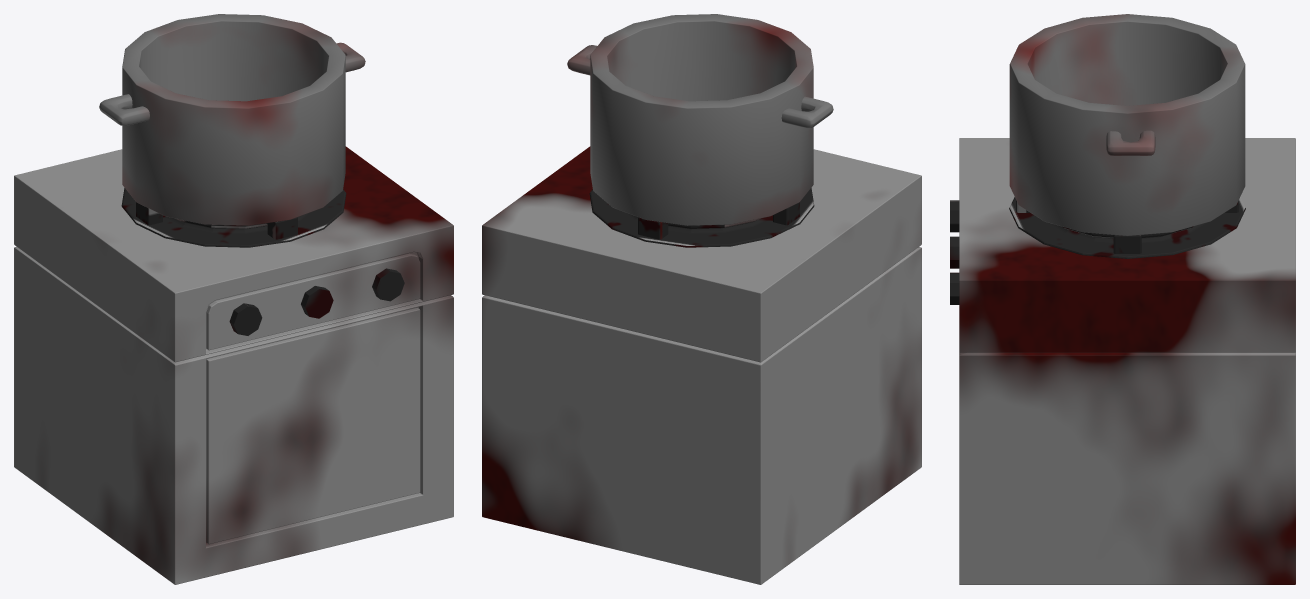
File: stove.fbx
3 renders of one model, left to right at view 1: azimuth 30°, elevation 25°; view 2: azimuth 150°, elevation 25°; view 3: azimuth 270°, elevation 25°, orthographic. The views are drawn at different scales.
Parts seen in each view (by area): view 1: Cube, Circle, Circle.001; view 2: Cube, Circle; view 3: Cube, Circle, Circle.001, Cube.002.
Boxes of the visible parts, x1=… form: Cube: x1=14, y1=14, x2=453, y2=584; Circle: x1=121, y1=188, x2=346, y2=247; Circle.001: x1=229, y1=268, x2=404, y2=335; Cube: x1=482, y1=14, x2=921, y2=584; Circle: x1=589, y1=188, x2=814, y2=247; Cube: x1=959, y1=14, x2=1295, y2=584; Circle: x1=1009, y1=197, x2=1245, y2=258; Circle.001: x1=950, y1=200, x2=959, y2=304; Cube.002: x1=1113, y1=235, x2=1141, y2=253.
Bounding box in the file's own units: 2 × 2.95 × 2.05.
Materials: 6 (6 with a texture image).
